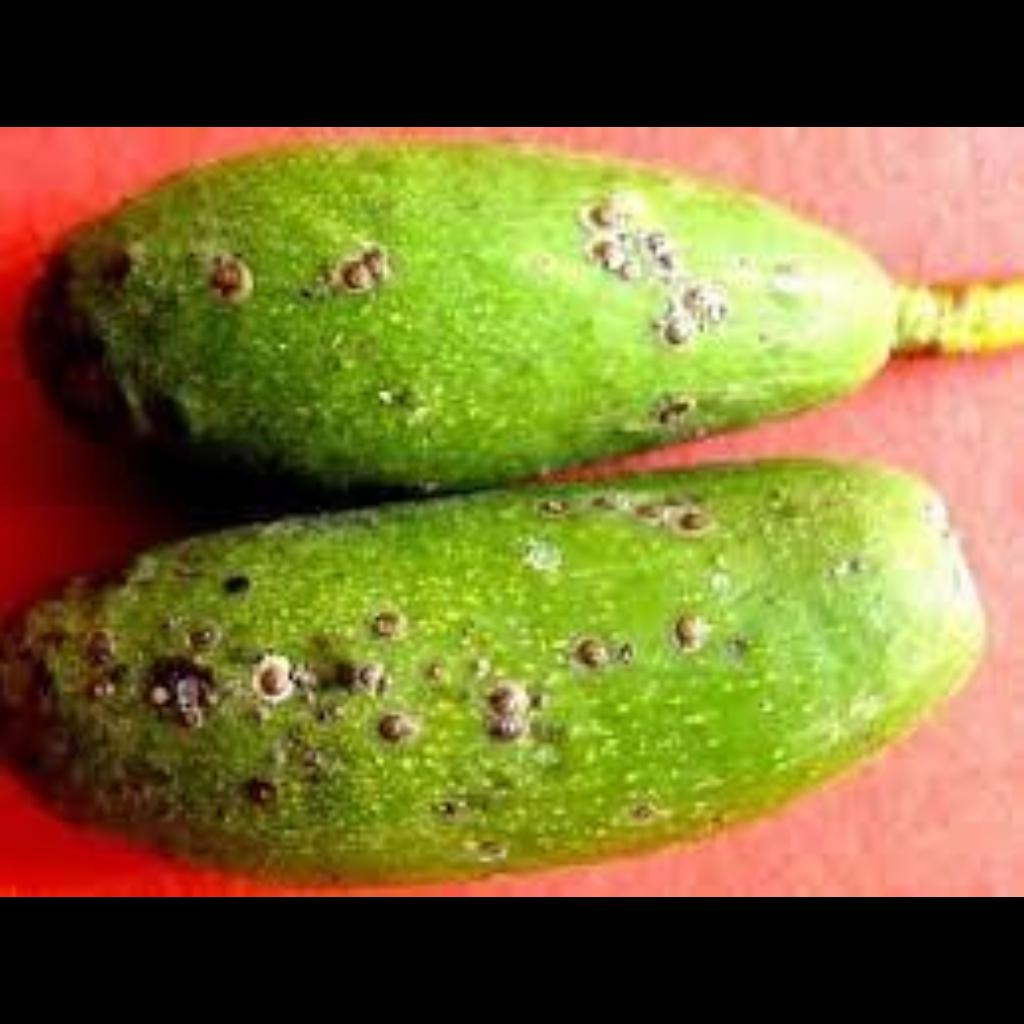cercospora_spot: (2, 489, 932, 865), (30, 153, 880, 457)
